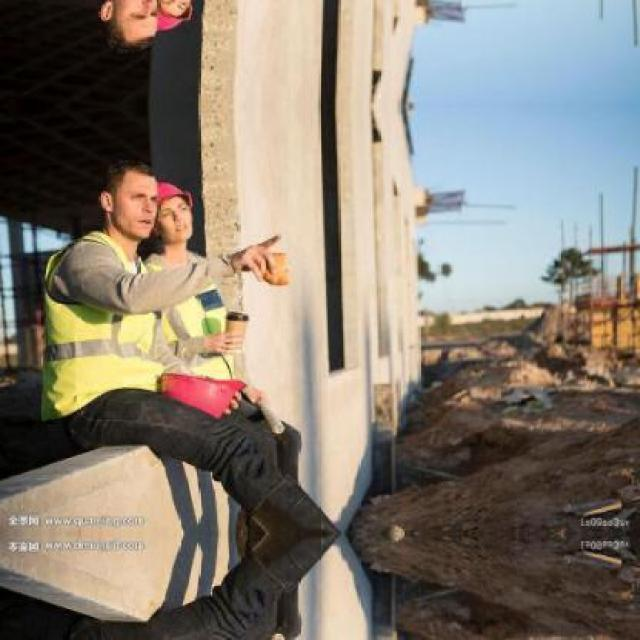hat: (141, 172, 197, 224)
